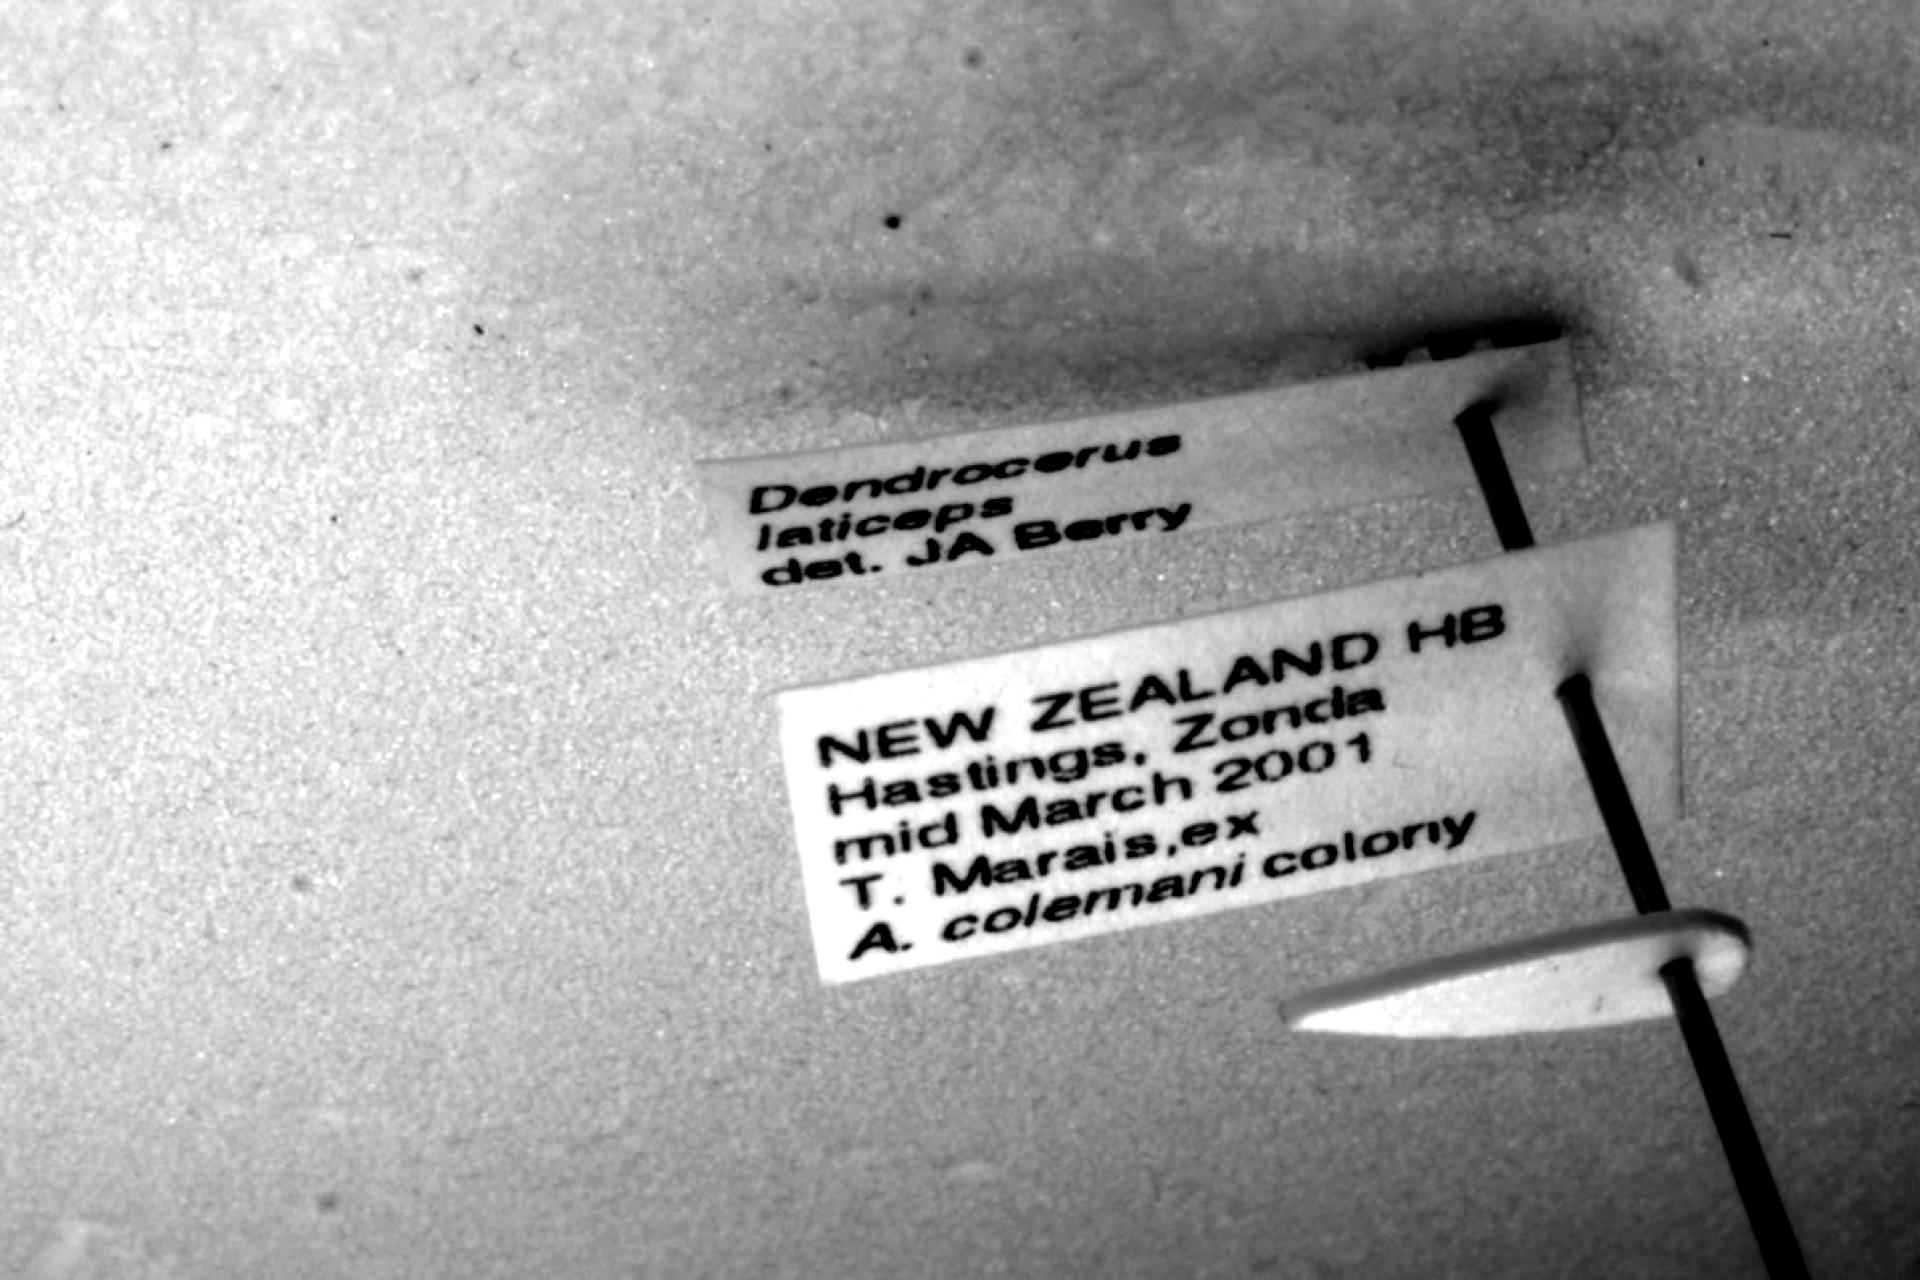typed_label: (776, 524, 1680, 983), (701, 340, 1586, 593)
